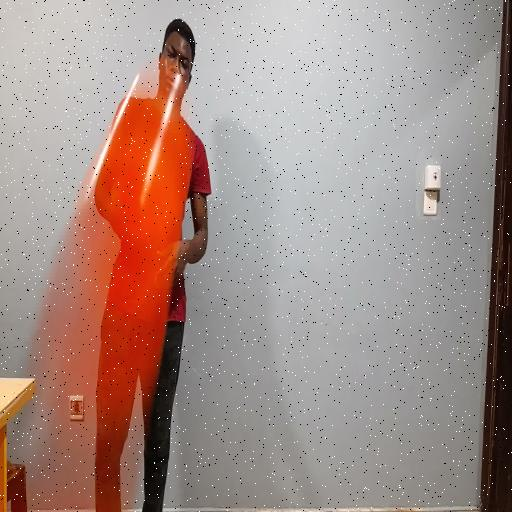plastic-ball: (17, 57, 197, 512)
